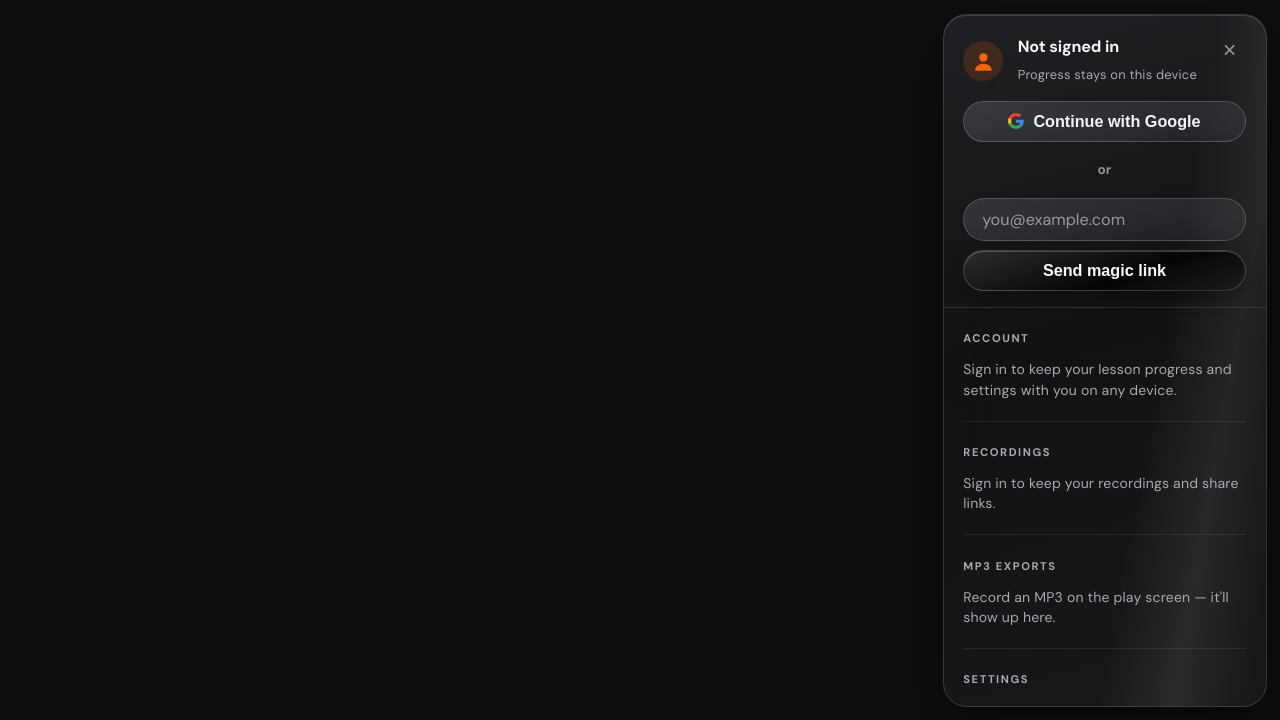
Scenario: ProfileSidebar — email magic-link sign-in › shows an inline error and keeps the form when signInWithEmail rejects
Type "lela@example.com" into the field named "email address".
click(1104, 220); type("lela@example.com")  # box x1=963 y1=198 x2=1246 y2=241
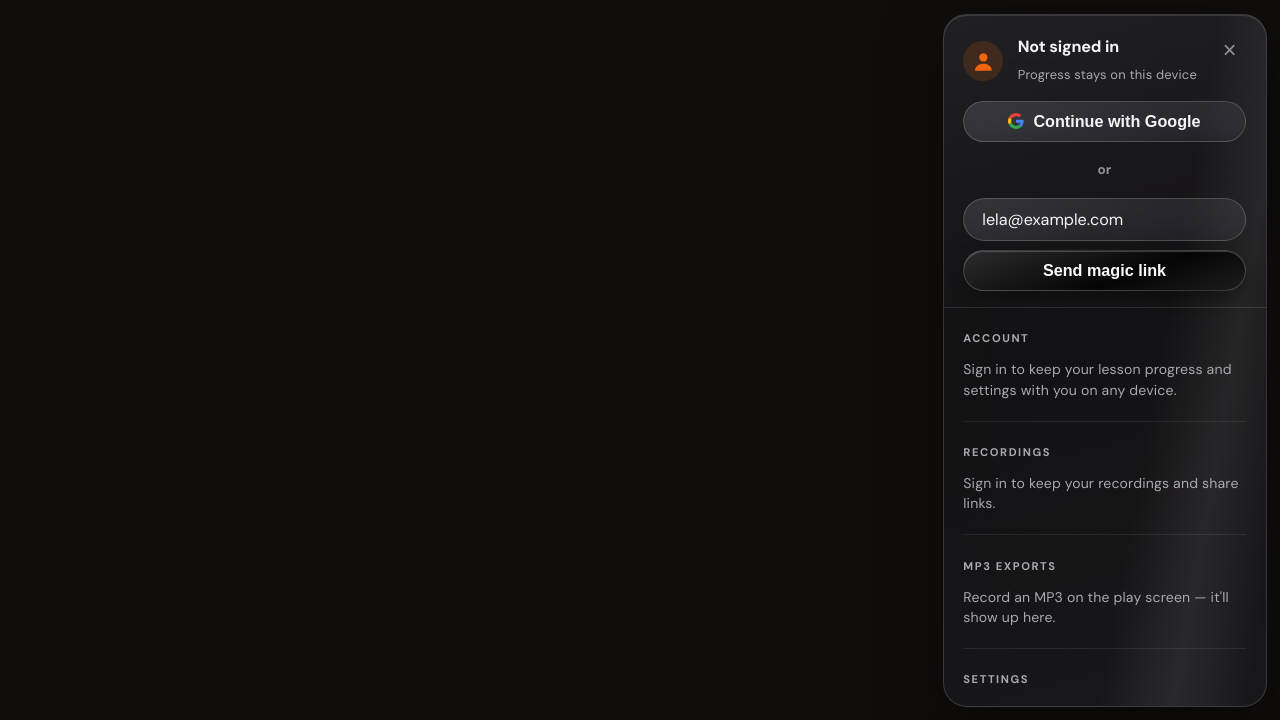
Click the button "Send magic link".
click(1104, 270)  # box x1=963 y1=250 x2=1246 y2=291
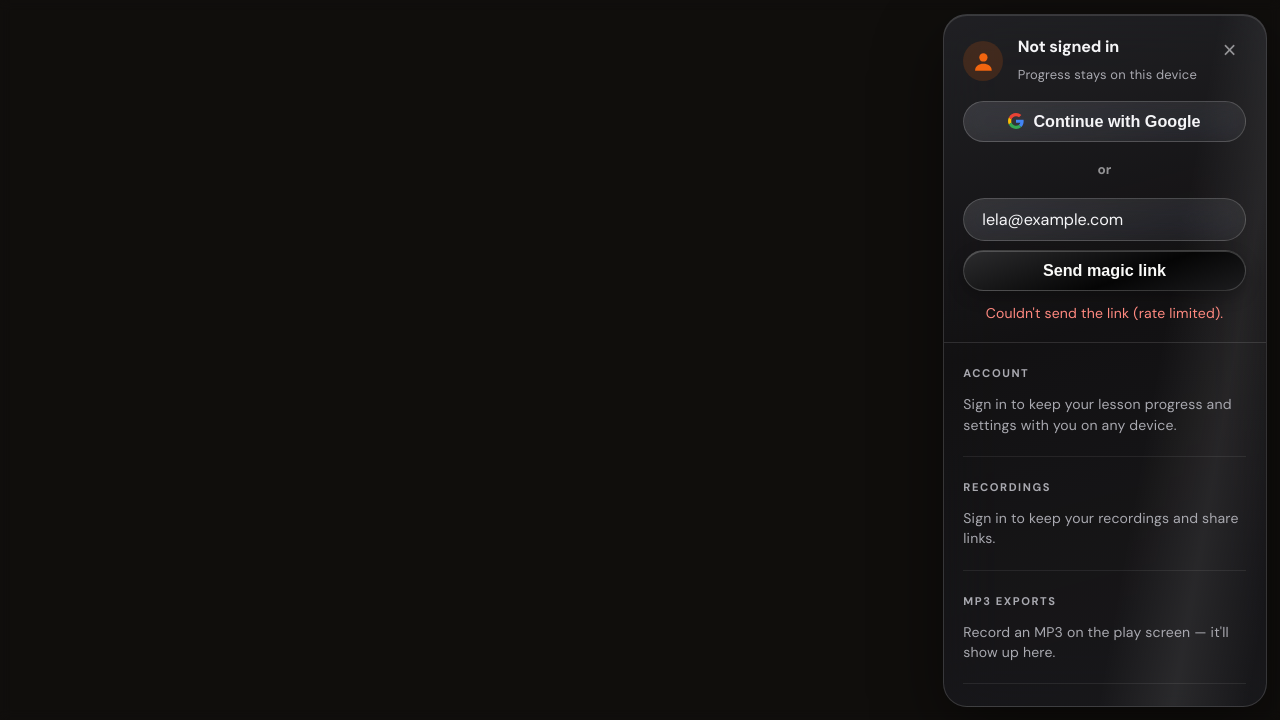
Check: the text "Couldn't send the link (rate limited)." is shown, box x1=986 y1=304 x2=1223 y2=322
